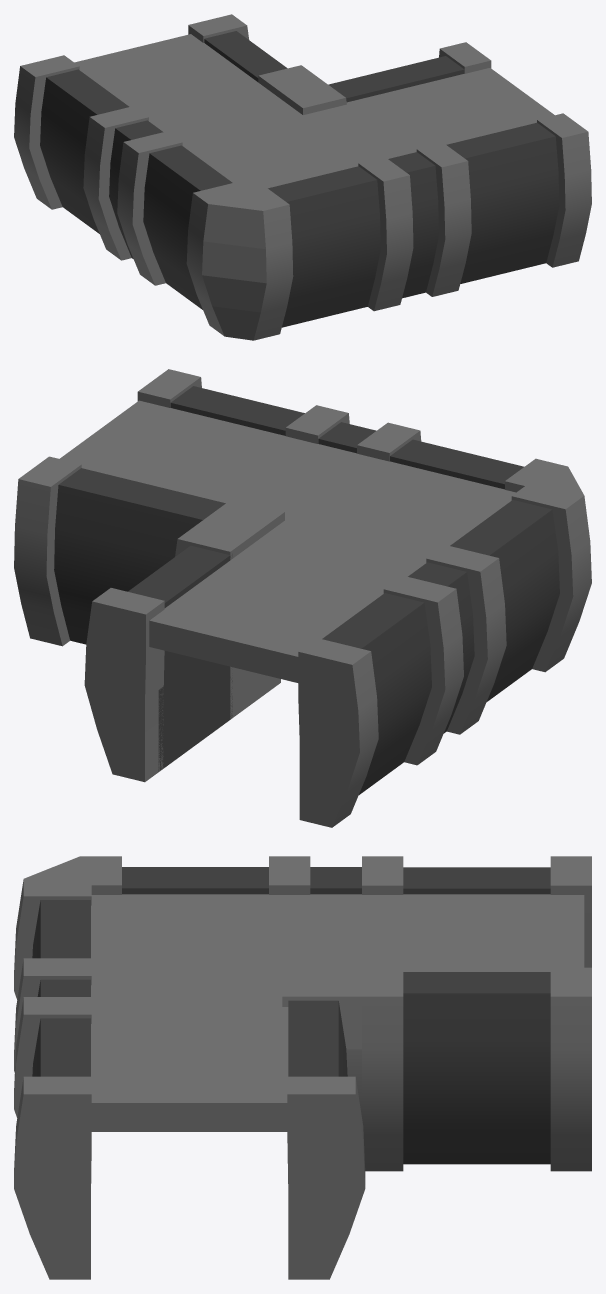
The model's file is mesh_stone_harbour_turn.fbx.
3 renders of one model, top to bottom at view 1: azimuth 30°, elevation 25°; view 2: azimuth 150°, elevation 25°; view 3: azimuth 270°, elevation 25°, orthographic. The views are drawn at different scales.
Parts seen in each view (by area): view 1: stone_harbour_turn; view 2: stone_harbour_turn; view 3: stone_harbour_turn.
Boxes of the visible parts, box(x1,y1,x2,y2) form: stone_harbour_turn: box(14, 14, 591, 340); stone_harbour_turn: box(14, 369, 591, 827); stone_harbour_turn: box(14, 856, 591, 1279).
Size of the model in its own units: 1787 by 639 by 1803.
1 material, 1 textured.
